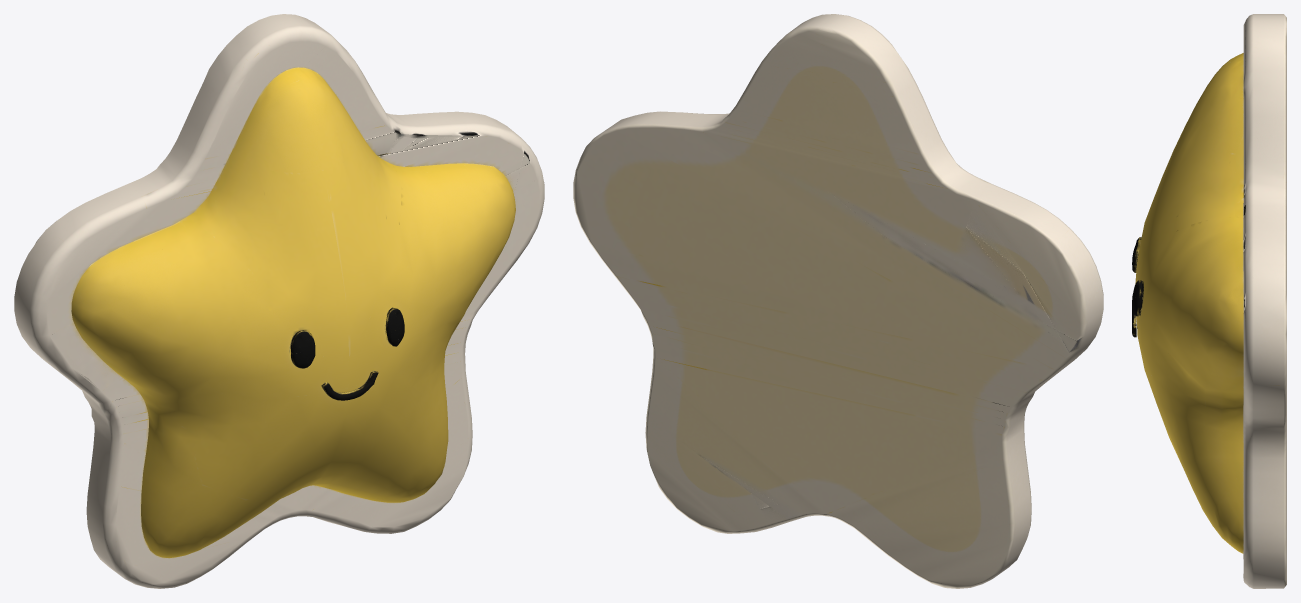
File: sticker.glb
The picture shows the model from 3 angles, left to right: view 1: azimuth 30°, elevation 25°; view 2: azimuth 150°, elevation 25°; view 3: azimuth 270°, elevation 25°; orthographic projection. The views are drawn at different scales.
Size of the model in its own units: 0.9561 by 0.9468 by 0.2607.
Materials: 1 (1 with a texture image).
